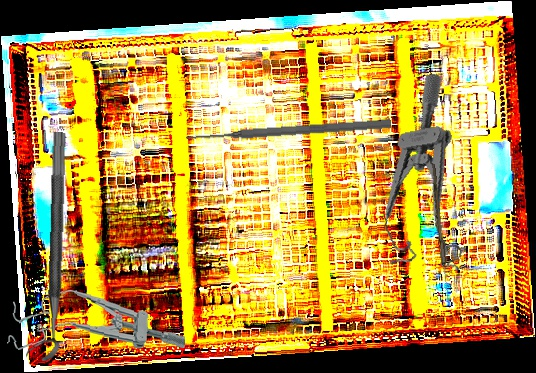Fixation Ring: (26, 131, 67, 362)
Pusher: (185, 116, 392, 145)
Speculum: (354, 72, 480, 284), (7, 285, 188, 362)
Surgical Spoon: (429, 163, 452, 303)
